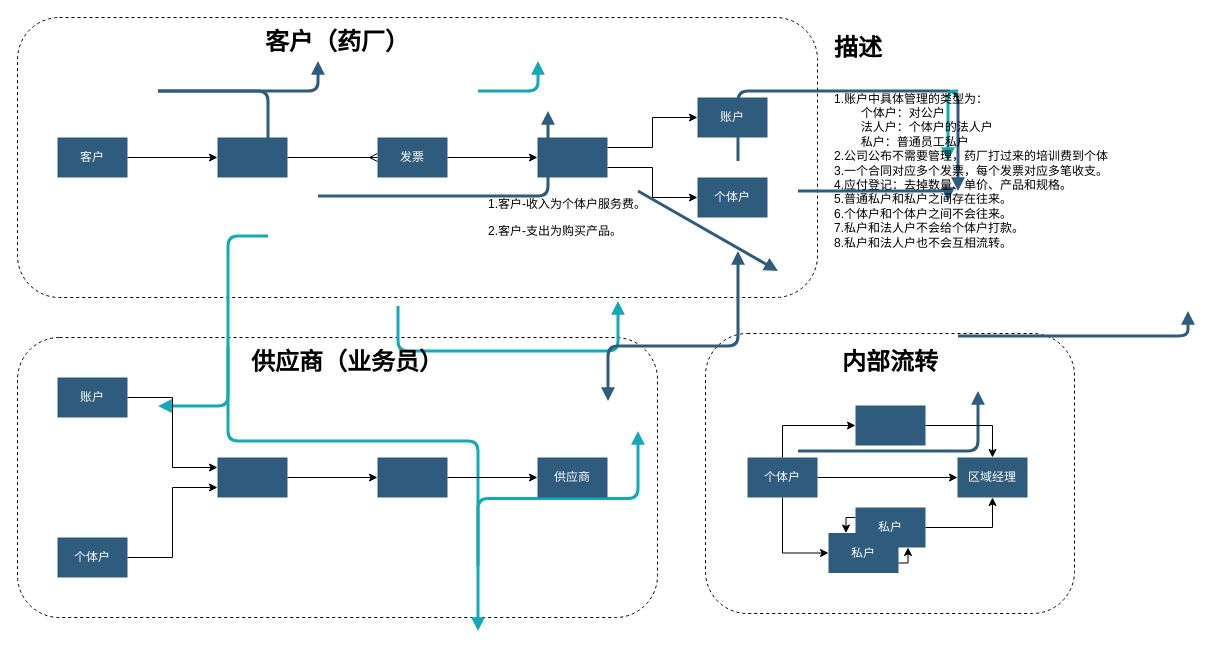
The diagram is 1215 pixels wide and 658 high, and some of its shapes have lost their labels. Here are the shapes that lost their labels. From the top down, the centre of each, then its label:
At (x=252, y=157): "合同 （应收）".
At (x=572, y=157): "收入/支出".
At (x=890, y=425): "法人户".
At (x=252, y=477): "应付 （挂账）".
At (x=412, y=477): "支出".
